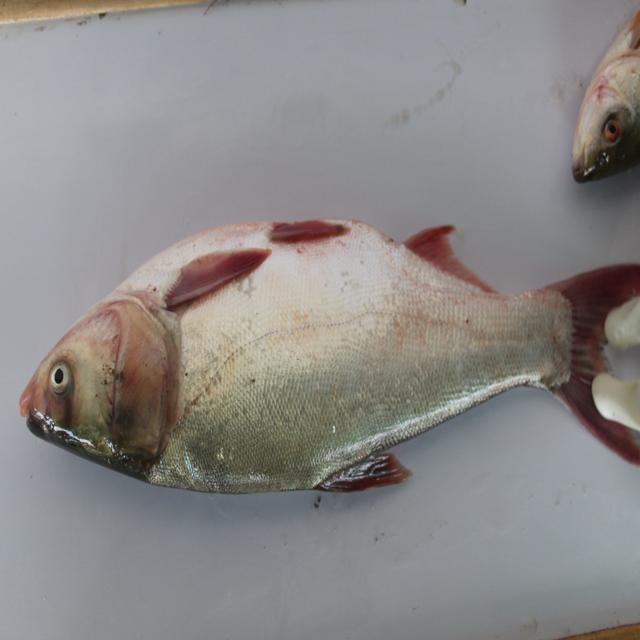SilverCarp: (21, 210, 640, 523)
